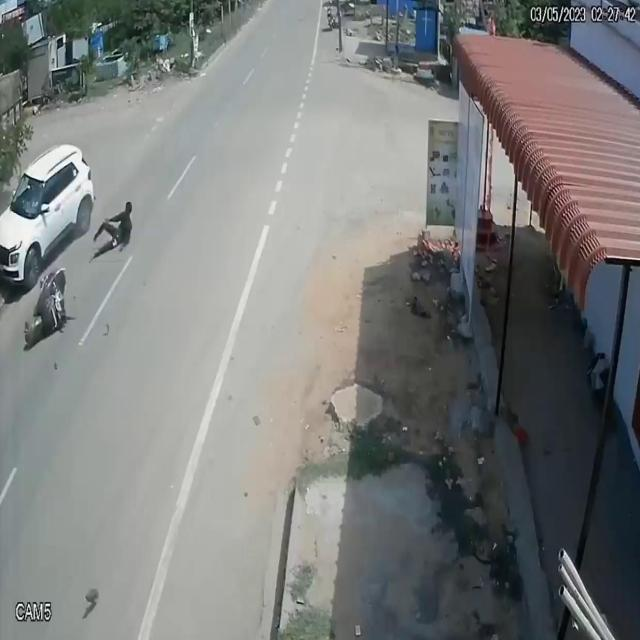accident: (0, 134, 137, 345)
